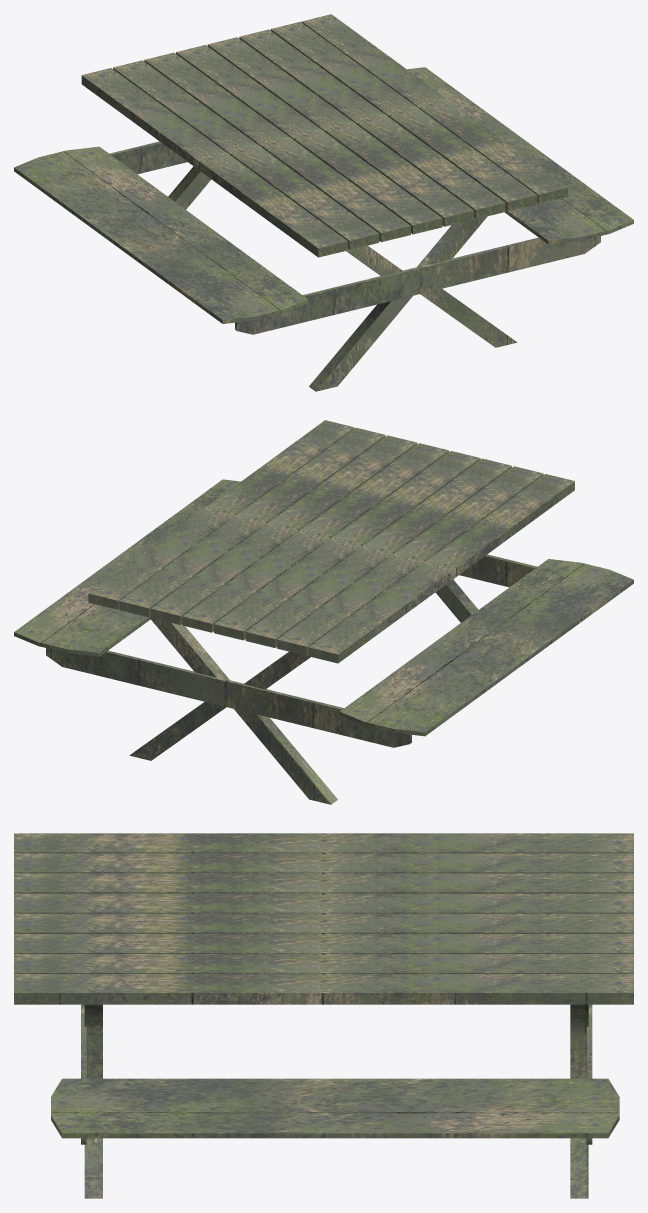
The model's file is parkBench.glb.
The picture shows the model from 3 angles, top to bottom: view 1: azimuth 30°, elevation 25°; view 2: azimuth 150°, elevation 25°; view 3: azimuth 270°, elevation 25°; orthographic projection. The views are drawn at different scales.
Parts seen in each view (by area): view 1: SM_Table; view 2: SM_Table; view 3: SM_Table.
Part boxes in pixels (<box>): SM_Table: <box>14,14,633,391</box>; SM_Table: <box>14,420,633,804</box>; SM_Table: <box>14,833,633,1198</box>.
Size of the model in its own units: 2.16 by 0.8465 by 2.15.
1 material, 1 textured.
